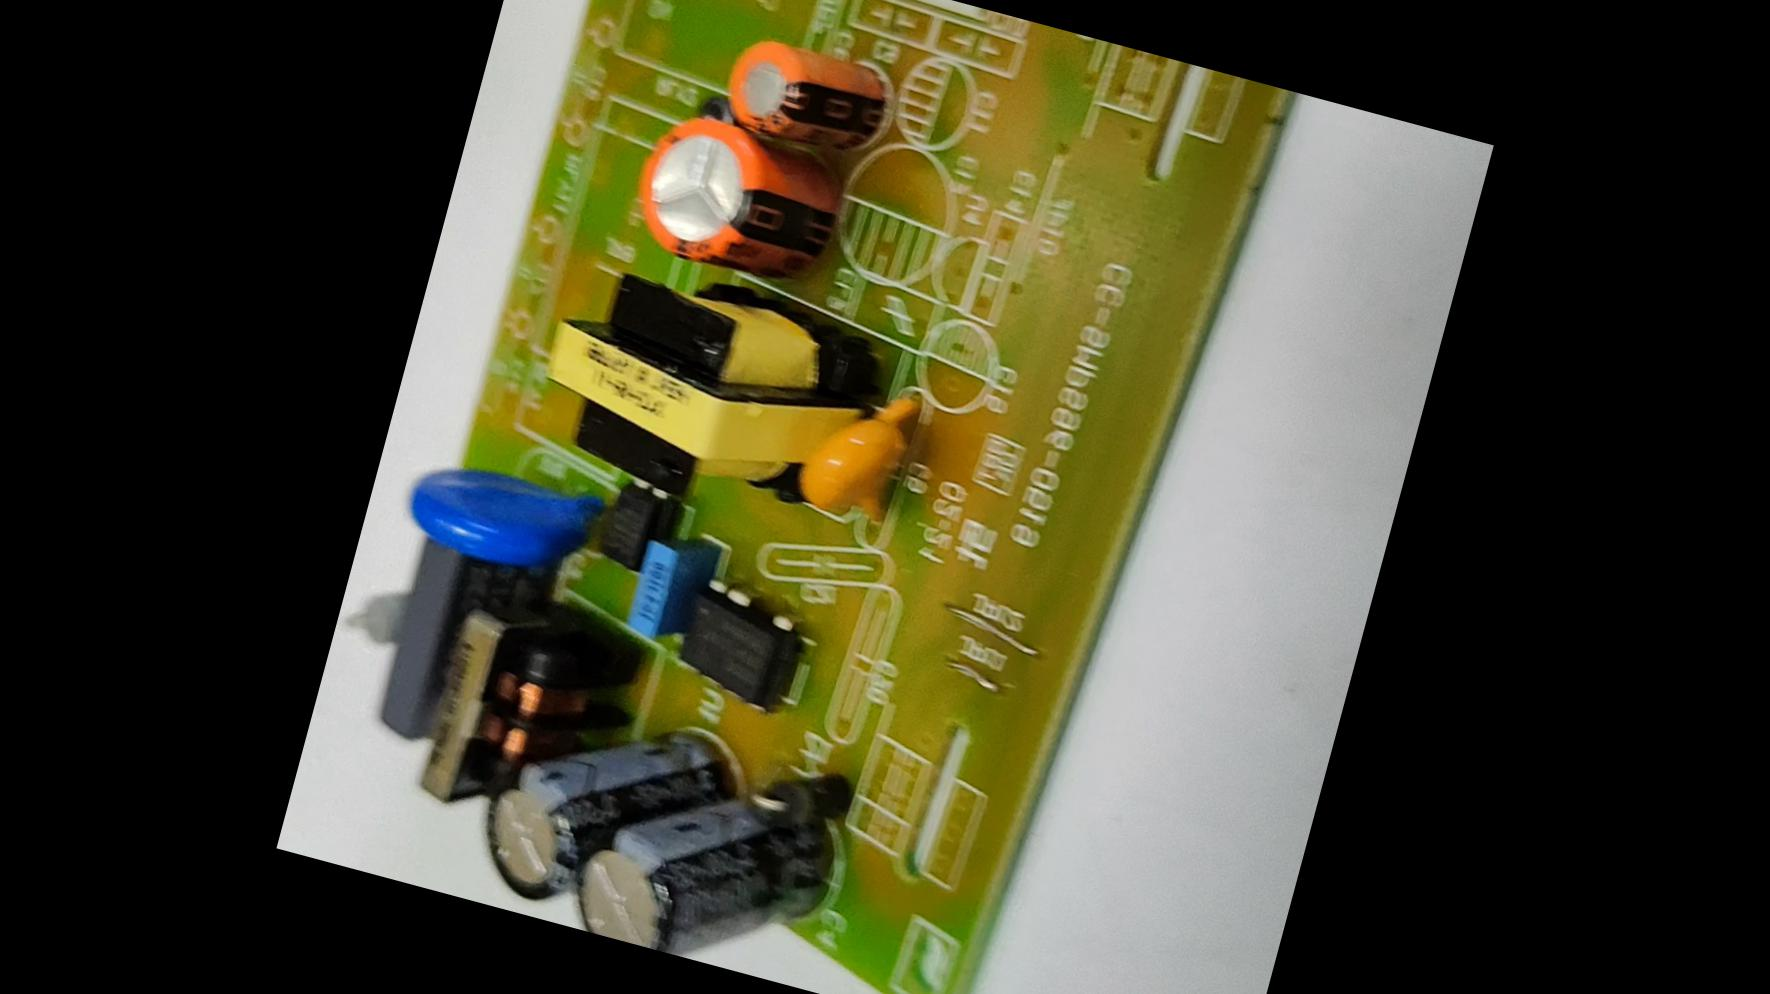Cap1: (613, 98, 869, 306)
Cap2: (705, 19, 915, 173)
Cap3: (467, 744, 605, 924)
Cap4: (557, 751, 853, 989)
MOSFET: (666, 566, 813, 724)
Mov: (395, 444, 609, 584)
Resistor: (334, 576, 412, 655)
Transformer: (532, 269, 857, 532), (411, 582, 557, 813)
